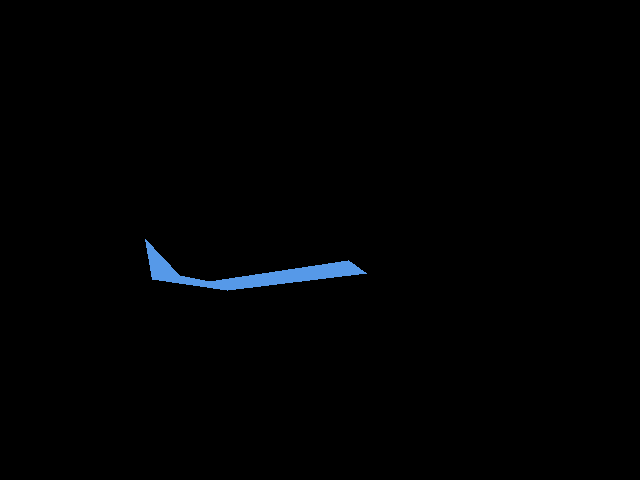Airplane: (145, 239, 366, 290)
